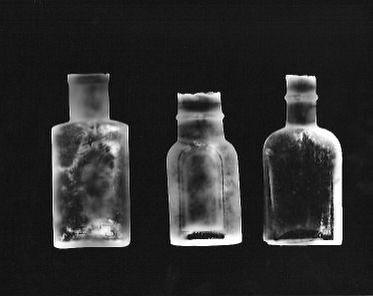bottle: (51, 72, 132, 250), (262, 74, 344, 247), (166, 91, 244, 248)
